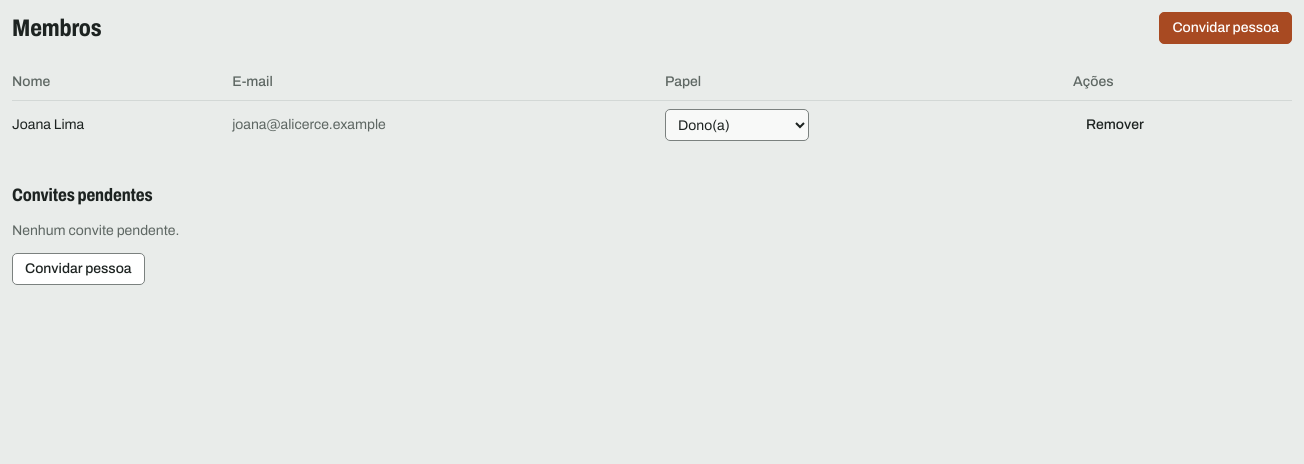
Test: MembersScreen › invites a new member with the chosen email and role
Check: the text "Joana Lima" is shown, box [12,101,232,149]
Click the button "Convidar pessoa" in the row of "Membros" at x=1226, y=28, box [1160,12,1292,44]
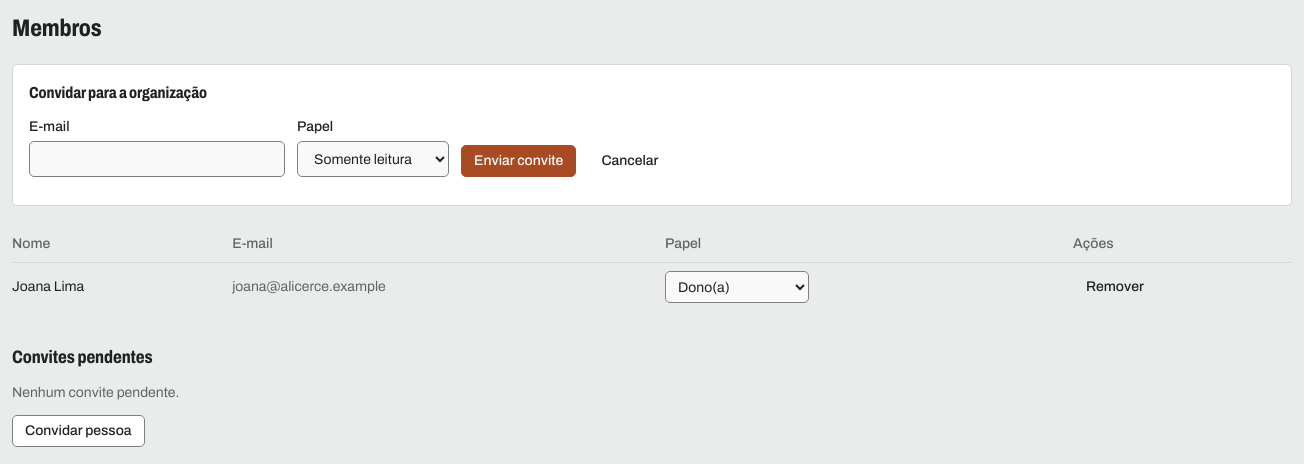
Type "nova@alicerce.example" into the field labelled "E-mail" at x=157, y=159, box [29,141,285,177]
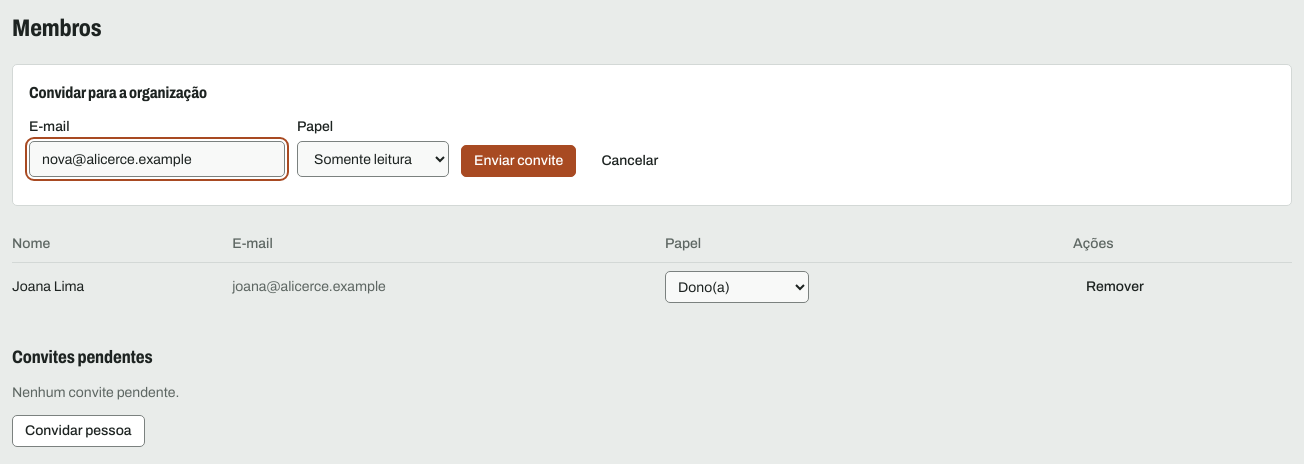
Select "Vendas" in the dropdown labelled "Papel" at x=373, y=159, box [297,141,449,177]
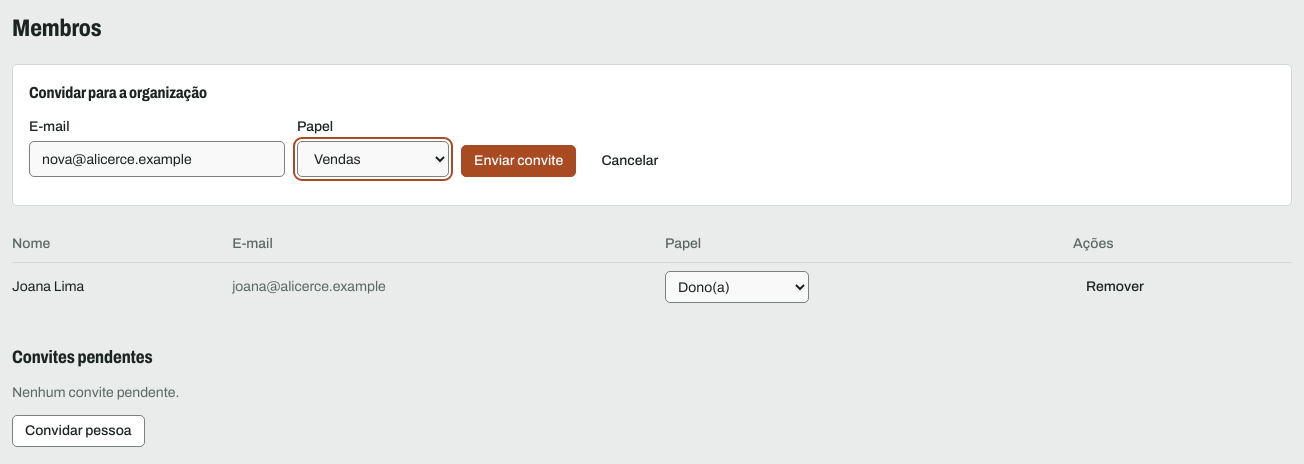
Click the button "Enviar convite" at x=519, y=161, box [461,145,576,177]
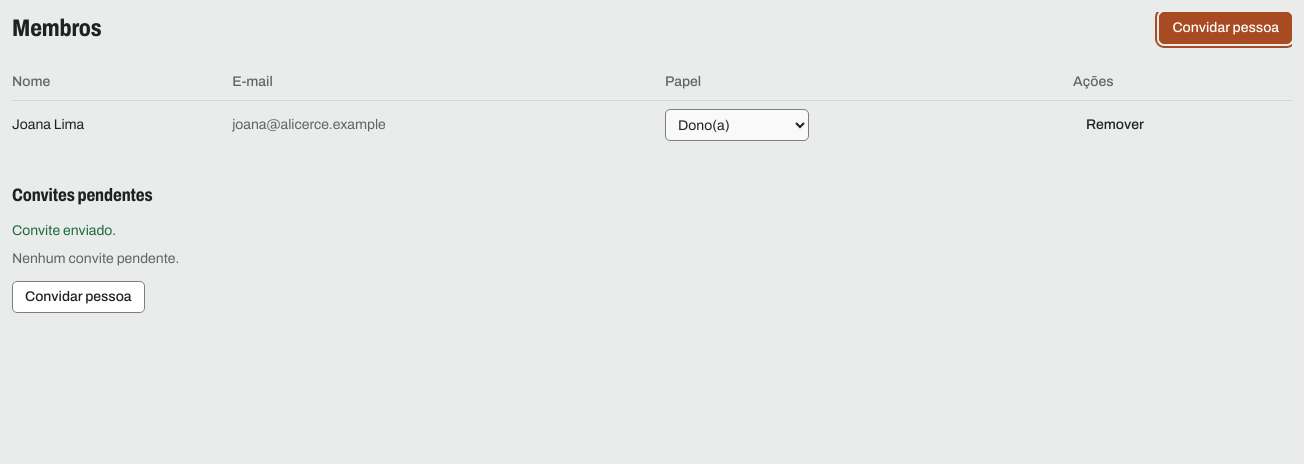
Check: the message reads "Convite enviado.", box [12,223,116,238]
